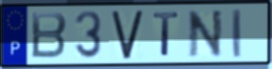3: (73, 10, 103, 61)
B: (30, 10, 69, 60)
I: (231, 7, 243, 60)
N: (186, 8, 225, 59)
T: (151, 11, 181, 58)
V: (110, 8, 145, 61)
